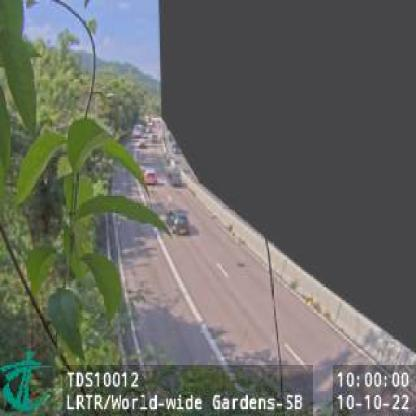Car: (167, 206, 191, 235), (144, 166, 158, 184)
